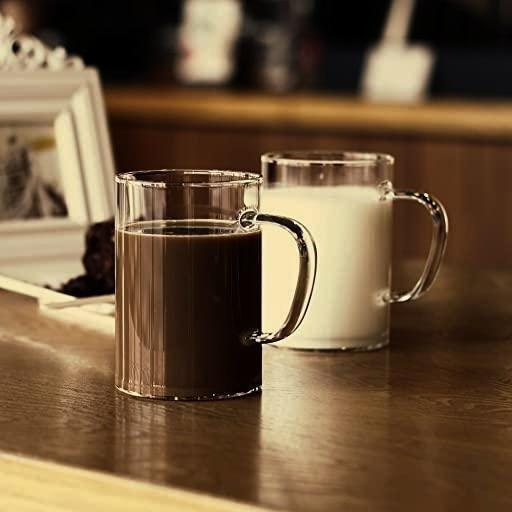glass-mug: (104, 160, 324, 406), (256, 146, 458, 354)
